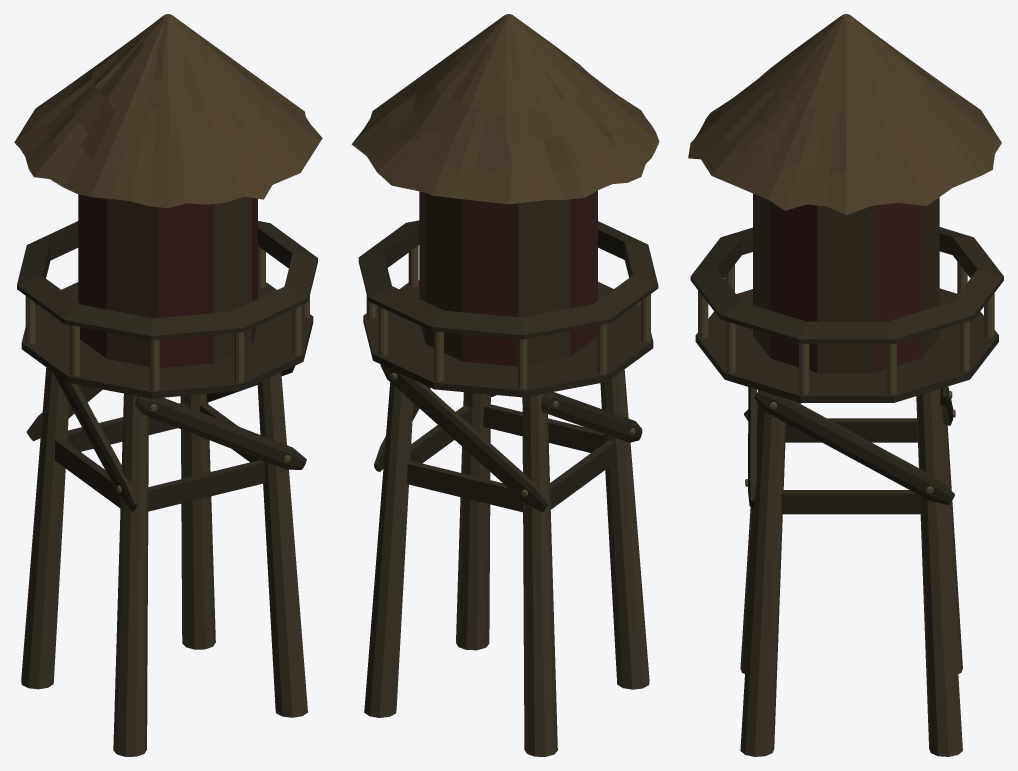
Rendered from Tower_Water_1_Black.fbx.
The picture shows the model from 3 angles, left to right: view 1: azimuth 30°, elevation 25°; view 2: azimuth 150°, elevation 25°; view 3: azimuth 270°, elevation 25°; orthographic projection. The views are drawn at different scales.
Visible parts, largest first — view 1: Cylinder.382, Cylinder.381, Cylinder.380, Cylinder.379, Cylinder.360, Cylinder.353, Cylinder.357, Cylinder.358, Cylinder.359, Cube.594, Cube.589, Cube.595 (+5 smaller); view 2: Cylinder.382, Cylinder.381, Cylinder.380, Cylinder.379, Cylinder.360, Cylinder.358, Cylinder.359, Cylinder.353, Cylinder.357, Cube.592, Cube.588, Cube.595 (+5 smaller); view 3: Cylinder.382, Cylinder.380, Cylinder.381, Cylinder.379, Cylinder.360, Cylinder.357, Cylinder.359, Cube.593, Cube.591, Cube.590, Cylinder.358, Cylinder.353 (+5 smaller).
Part boxes in pixels (bbox=[...]): Cylinder.382: bbox=[14, 14, 322, 208]; Cylinder.381: bbox=[78, 194, 257, 368]; Cylinder.380: bbox=[106, 196, 251, 366]; Cylinder.379: bbox=[17, 221, 317, 340]; Cylinder.360: bbox=[21, 282, 313, 398]; Cylinder.353: bbox=[113, 393, 148, 756]; Cylinder.357: bbox=[257, 372, 307, 717]; Cylinder.358: bbox=[21, 367, 69, 689]; Cylinder.359: bbox=[180, 394, 215, 649]; Cube.594: bbox=[134, 396, 306, 469]; Cube.589: bbox=[148, 460, 265, 511]; Cube.595: bbox=[52, 371, 137, 511]; Cylinder.382: bbox=[351, 14, 659, 204]; Cylinder.381: bbox=[419, 190, 597, 366]; Cylinder.380: bbox=[425, 193, 569, 364]; Cylinder.379: bbox=[358, 220, 658, 339]; Cylinder.360: bbox=[363, 280, 653, 397]; Cylinder.358: bbox=[522, 393, 557, 756]; Cylinder.359: bbox=[364, 382, 413, 717]; Cylinder.353: bbox=[600, 369, 649, 689]; Cylinder.357: bbox=[456, 392, 490, 650]; Cube.592: bbox=[380, 364, 549, 512]; Cube.588: bbox=[407, 460, 522, 512]; Cube.595: bbox=[541, 392, 642, 442]; Cylinder.382: bbox=[688, 14, 1001, 215]; Cylinder.380: bbox=[753, 193, 939, 372]; Cylinder.381: bbox=[770, 202, 921, 372]; Cylinder.379: bbox=[690, 227, 1003, 343]; Cylinder.360: bbox=[695, 288, 998, 402]; Cylinder.357: bbox=[740, 408, 785, 756]; Cylinder.359: bbox=[916, 389, 962, 756]; Cube.593: bbox=[754, 390, 954, 505]; Cube.591: bbox=[781, 490, 921, 514]; Cube.590: bbox=[785, 418, 917, 442]; Cylinder.358: bbox=[943, 420, 962, 673]; Cylinder.353: bbox=[740, 390, 760, 673].
Size of the model in its own units: 1854 by 4465 by 1842.
